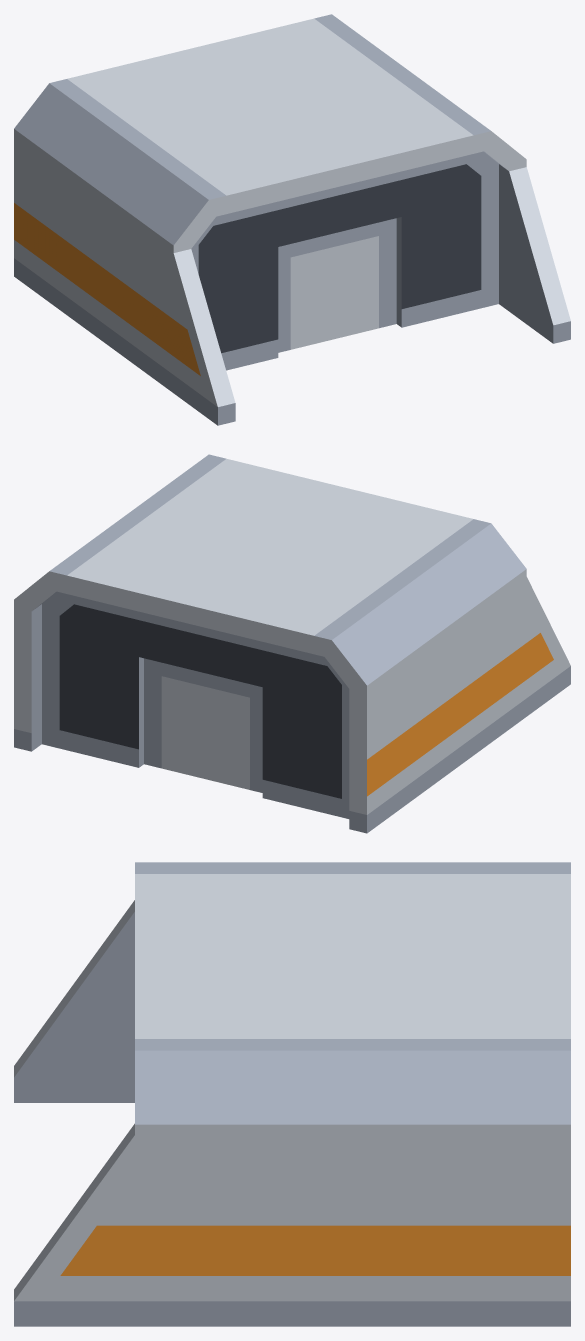
The model's file is hangar_smallB.dae.
The picture shows the model from 3 angles, top to bottom: view 1: azimuth 30°, elevation 25°; view 2: azimuth 150°, elevation 25°; view 3: azimuth 270°, elevation 25°; orthographic projection. The views are drawn at different scales.
Visible parts, largest first — view 1: hangar_smallB, gate; view 2: hangar_smallB, gate; view 3: hangar_smallB.
Part boxes in pixels (x1=…): hangar_smallB: x1=14, y1=14, x2=570, y2=425; gate: x1=191, y1=151, x2=498, y2=370; hangar_smallB: x1=14, y1=454, x2=570, y2=833; gate: x1=42, y1=591, x2=349, y2=818; hangar_smallB: x1=14, y1=862, x2=570, y2=1326.
Bounding box in the file's own units: 2 × 1 × 2.
